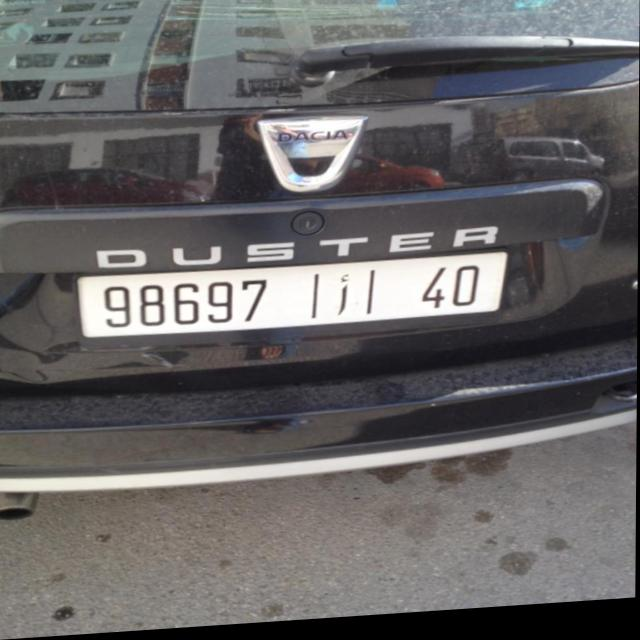License-Plate: (78, 258, 508, 340)
